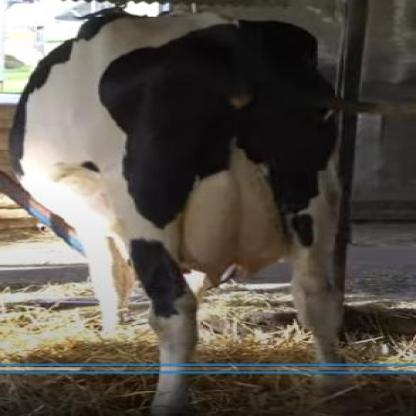cow: (14, 9, 345, 416)
